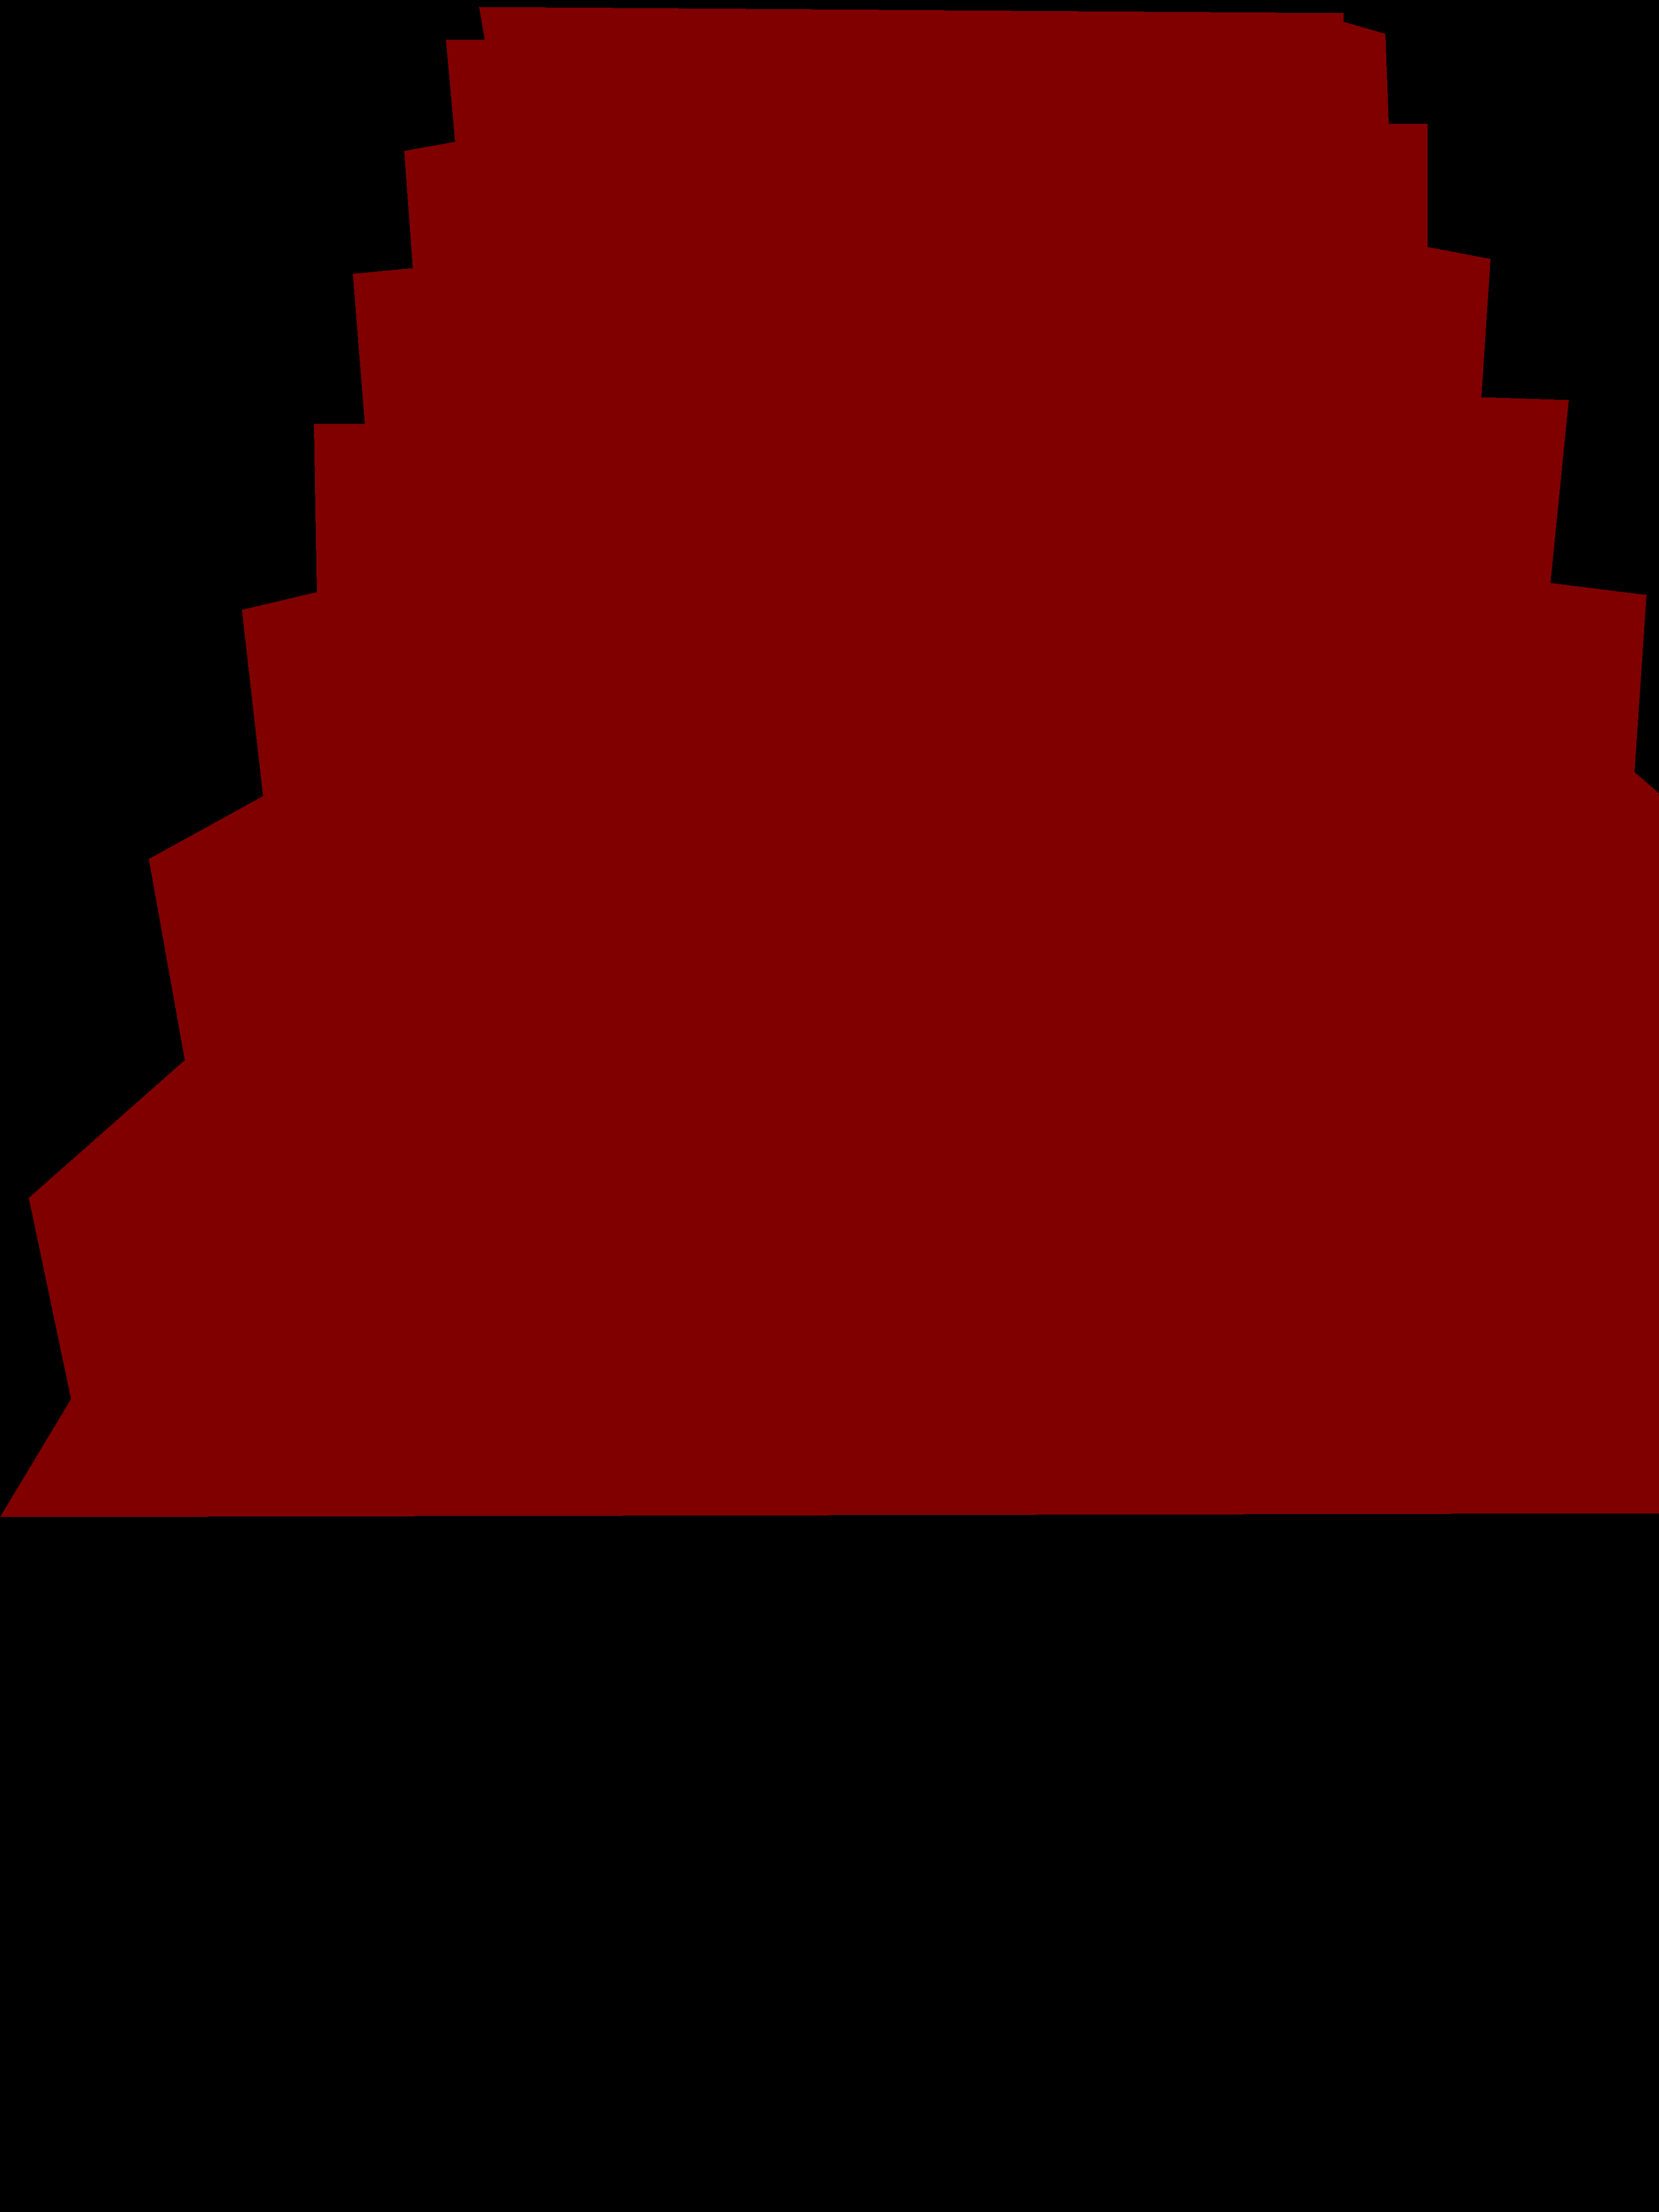stair: (0, 7, 1659, 1517)
